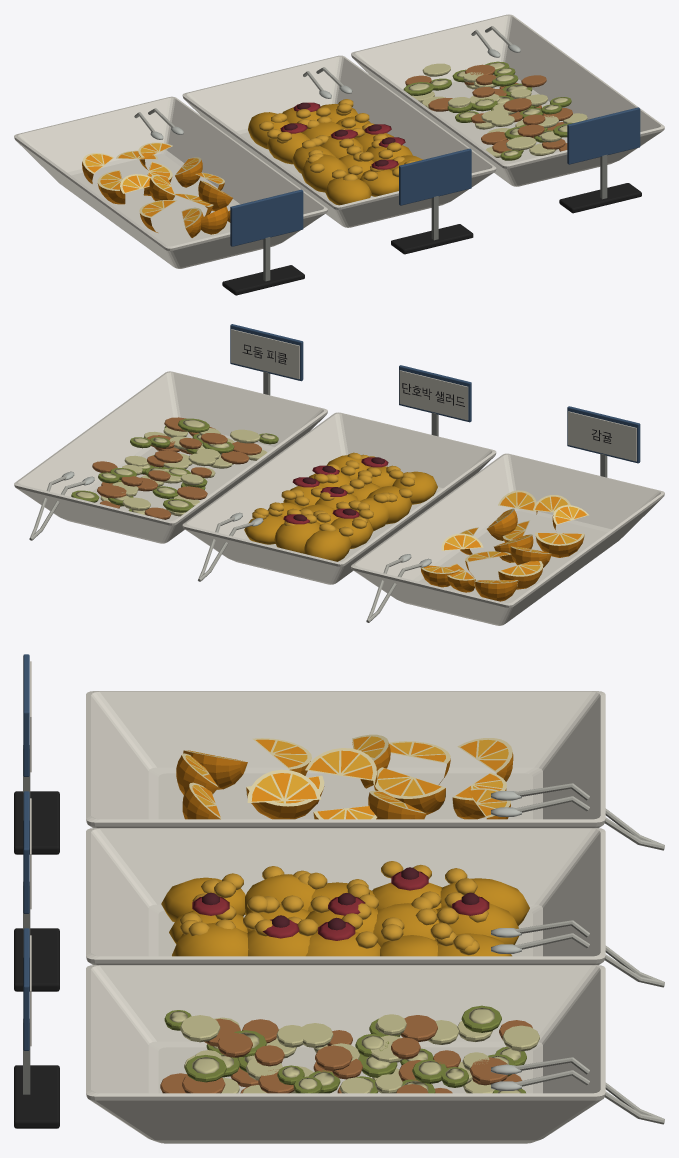
The model's file is coldSalad.glb.
The picture shows the model from 3 angles, top to bottom: view 1: azimuth 30°, elevation 25°; view 2: azimuth 150°, elevation 25°; view 3: azimuth 270°, elevation 25°; orthographic projection. The views are drawn at different scales.
Parts seen in each view (by area): view 1: coldSalad; view 2: coldSalad; view 3: coldSalad.
Boxes of the visible parts, x1,y1,x2,y2 form: coldSalad: (14, 14, 664, 295); coldSalad: (14, 324, 664, 625); coldSalad: (14, 654, 664, 1143).
Bounding box in the file's own units: 1.57 × 0.263 × 1.06.
